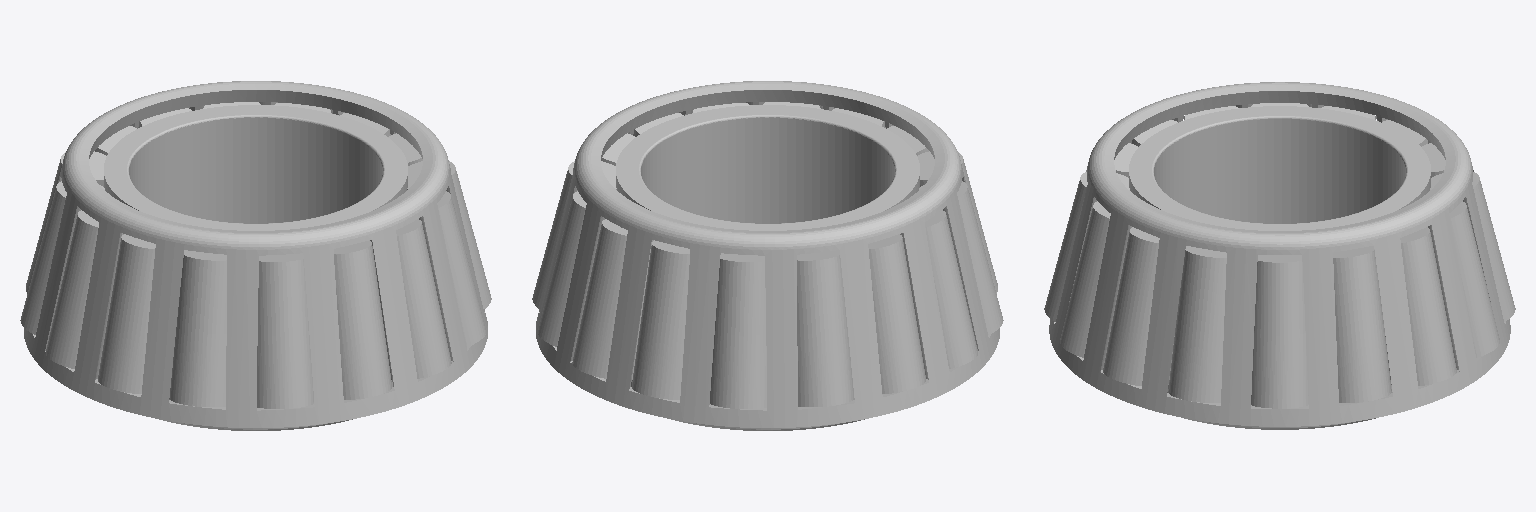
URDF robot description (bearing):
<?xml version="1.0" ?>
<robot name="bearing">
  <link name="base_link">
    <visual>
      <geometry>
        <mesh filename="bearing.stl" scale="0.001 0.001 0.001"/>
      </geometry>
      <material name="white">
        <color rgba="0.8 0.8 0.8 1"/>
      </material>
    </visual>
    <collision>
      <geometry>
        <mesh filename="bearing.stl" scale="0.001 0.001 0.001"/>
      </geometry>
    </collision>
    <inertial>
      <mass value="1.0"/>
      <inertia ixx="0.1" ixy="0" ixz="0" iyy="0.1" iyz="0" izz="0.1"/>
    </inertial>
  </link>
</robot> 

--- What the picture shows (computed from the rendered views, not written in the file) ---
3 views of the same robot in one strip: view 1: azimuth 30°, elevation 25°; view 2: azimuth 150°, elevation 25°; view 3: azimuth 270°, elevation 25° (orthographic).
Model bearing with 1 links and 0 joints (none), rooted at base_link, posed every joint at zero.
Visible links, largest first — view 1: base_link; view 2: base_link; view 3: base_link.
Boxes of the visible links, x1,y1,x2,y2 form: base_link: (20, 81, 491, 430); base_link: (532, 81, 1003, 430); base_link: (1044, 82, 1515, 429).
Size in the robot's own frame: 0.0748 by 0.0748 by 0.034 metres.
Meshes: 1 distinct files referenced, 1 mesh visuals loaded (1 binary STL).